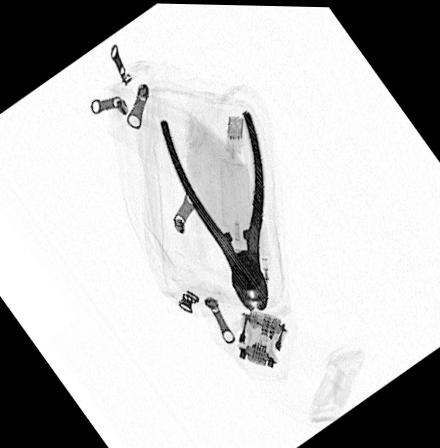Pliers: (158, 107, 268, 310)
